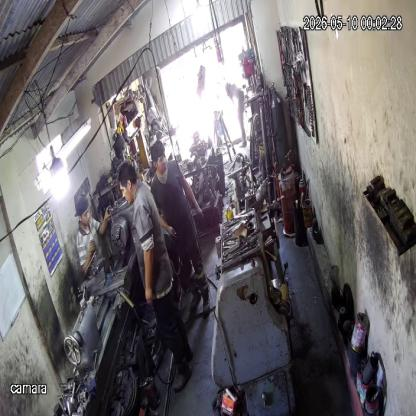sin_lentes: (155, 152, 167, 164), (80, 207, 91, 217)
